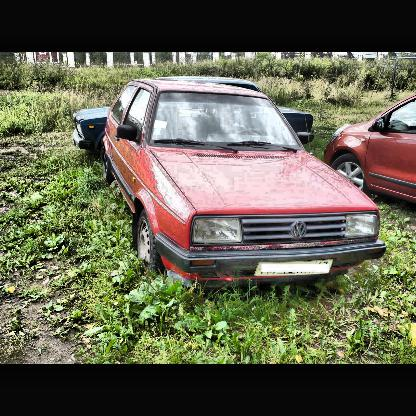Volkswagen Golf Hatchback 1991: (104, 77, 388, 283)
